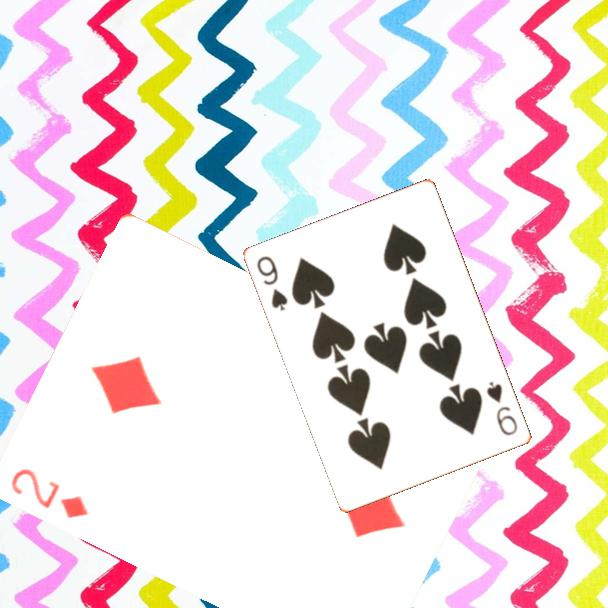d02: (8, 464, 92, 522)
s09: (483, 378, 521, 439), (254, 253, 291, 314)
